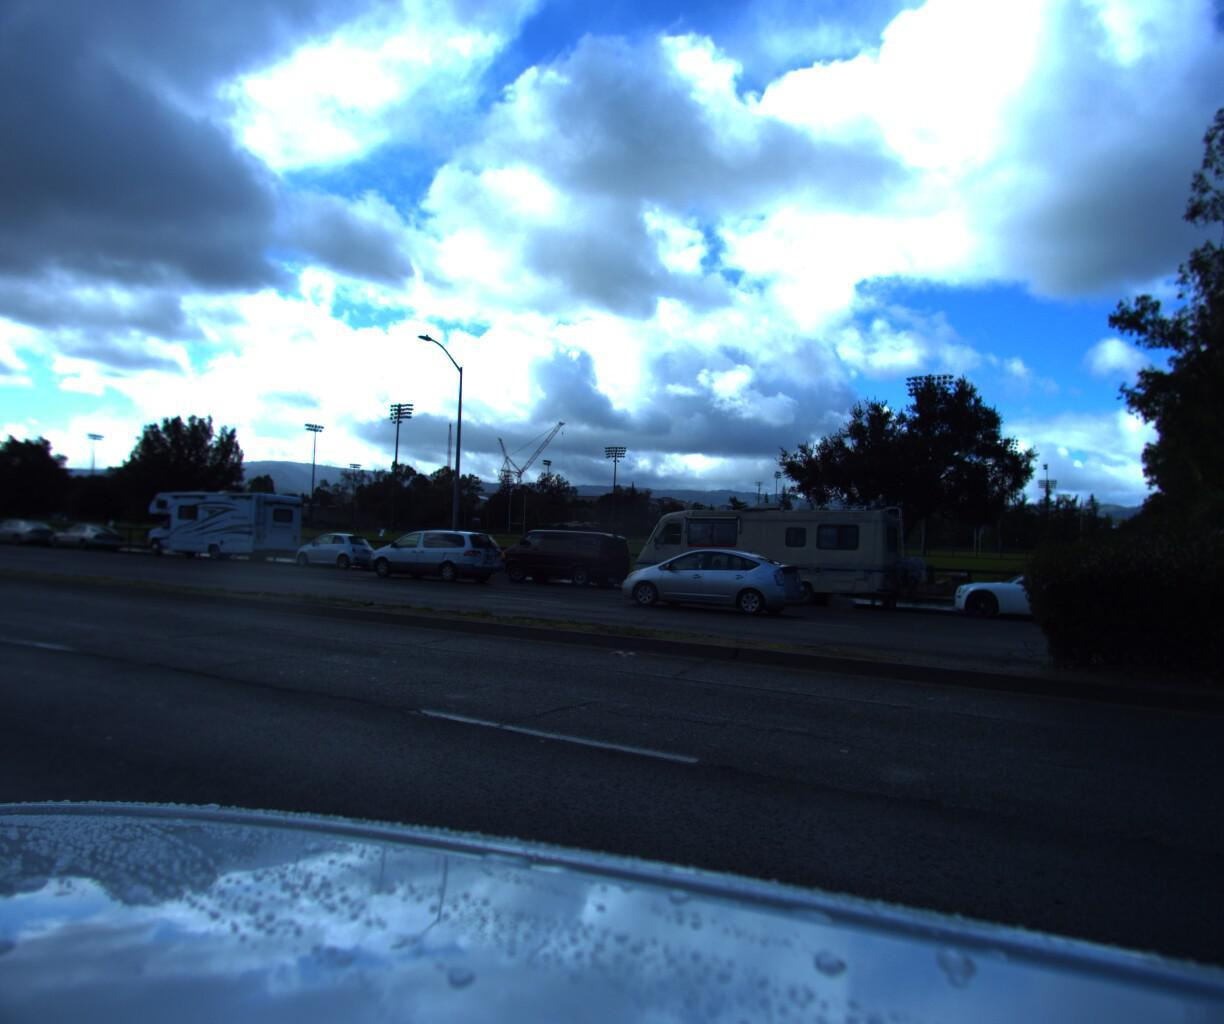car: (617, 544, 818, 615), (945, 569, 1149, 636), (357, 532, 511, 592), (490, 530, 634, 586), (38, 525, 132, 561), (287, 536, 383, 569), (0, 523, 63, 557)
other_vehicle: (622, 503, 909, 614), (123, 491, 303, 567)
